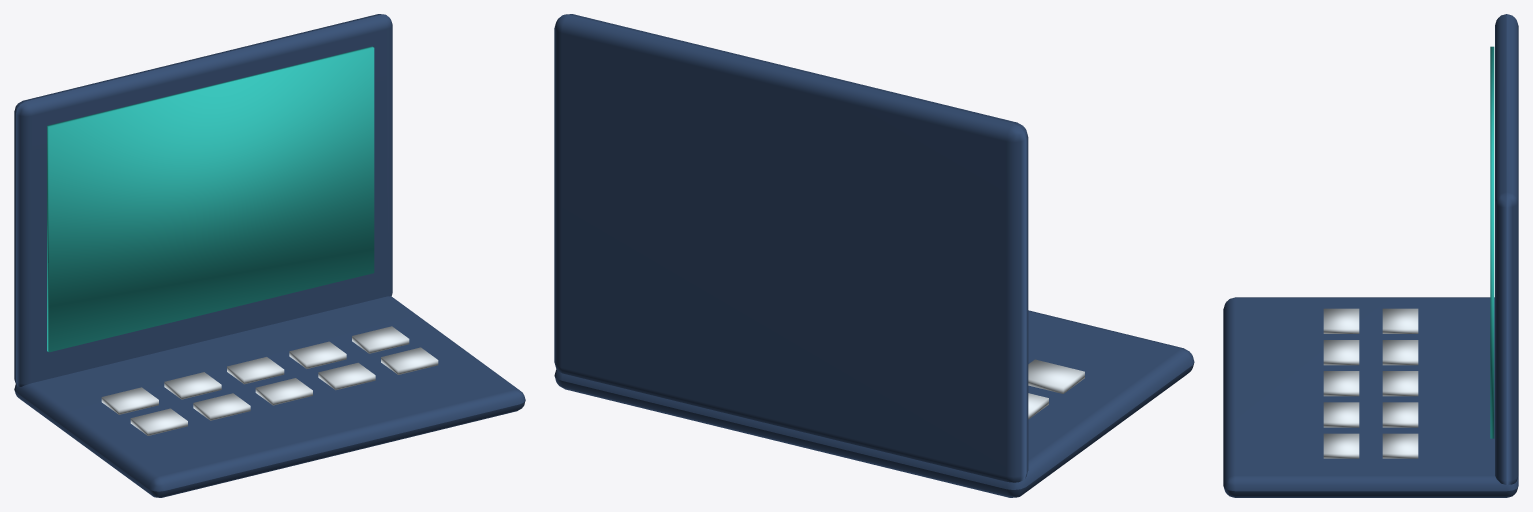
The model's file is laptop-quality.glb.
3 views of the same model, side by side, from view 1: azimuth 30°, elevation 25°; view 2: azimuth 150°, elevation 25°; view 3: azimuth 270°, elevation 25° (orthographic). The views are drawn at different scales.
Parts seen in each view (by area): view 1: Keyboard deck; view 2: Keyboard deck; view 3: Keyboard deck.
Part boxes in pixels (x1,y1,x2,y2): Keyboard deck: (14,14,525,497); Keyboard deck: (554,14,1194,497); Keyboard deck: (1223,14,1518,497).
Bounding box in the file's own units: 1.5 × 1.14 × 1.
